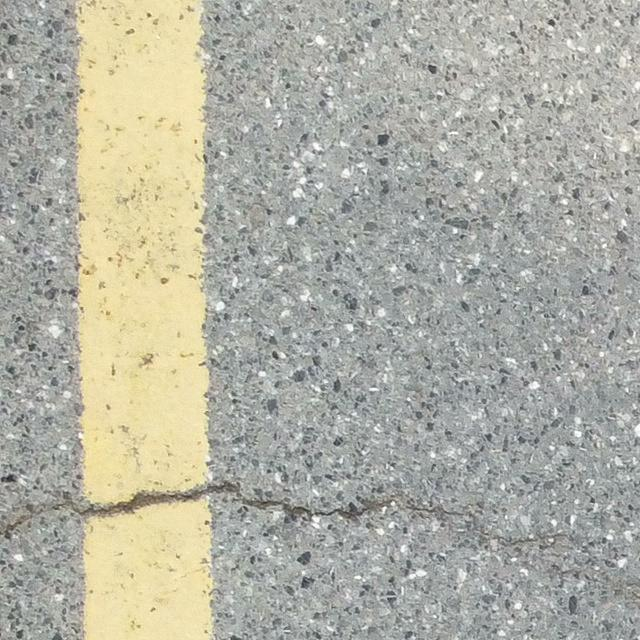TransverseCrack: (1, 482, 567, 546)
